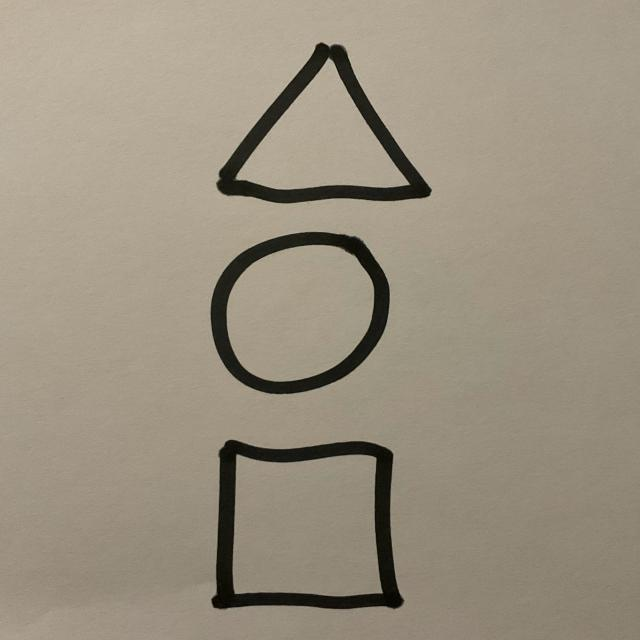Dreieck: (216, 43, 432, 205)
Kreis: (209, 232, 392, 397)
Quadrat: (211, 441, 403, 612)
